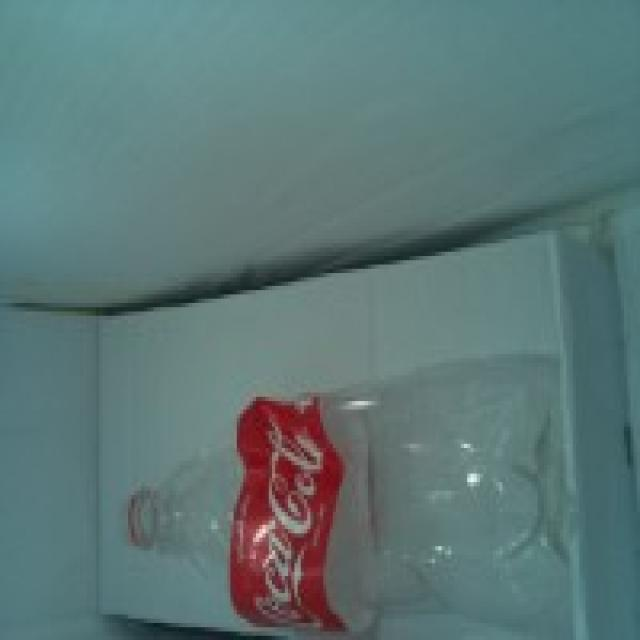Anorganik: (122, 350, 563, 640)
